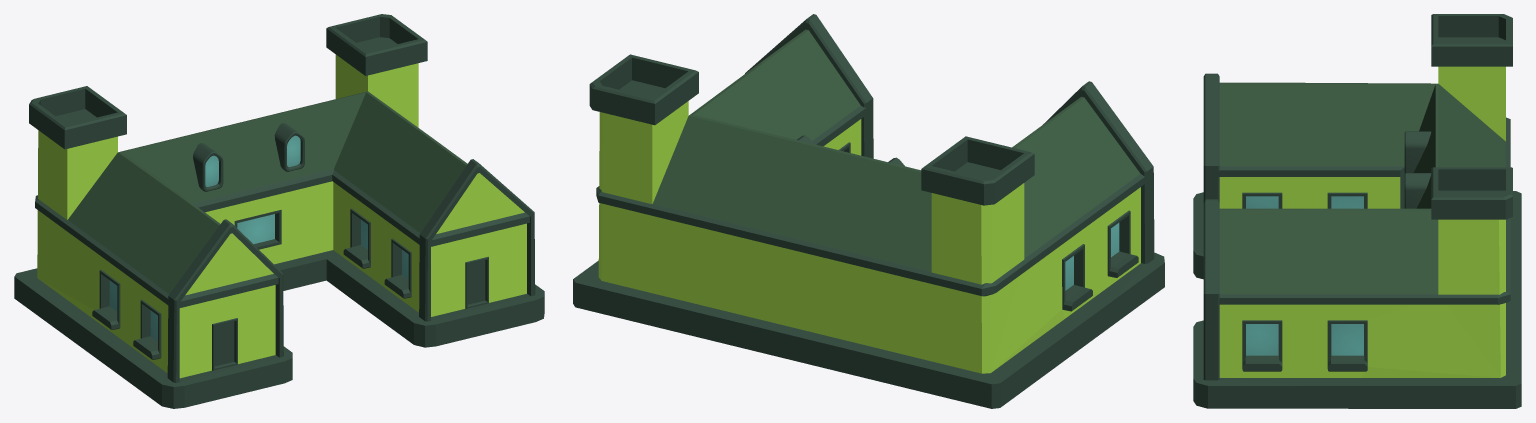
File: SM_House_34.fbx
3 views of the same model, side by side, from view 1: azimuth 30°, elevation 25°; view 2: azimuth 150°, elevation 25°; view 3: azimuth 270°, elevation 25° (orthographic). The views are drawn at different scales.
Parts seen in each view (by area): view 1: SM_House_34; view 2: SM_House_34; view 3: SM_House_34.
Boxes of the visible parts, x1,y1,x2,y2 form: SM_House_34: (14, 14, 544, 408); SM_House_34: (573, 14, 1164, 408); SM_House_34: (1193, 14, 1521, 408).
Size of the model in its own units: 1686 by 831 by 1202.
